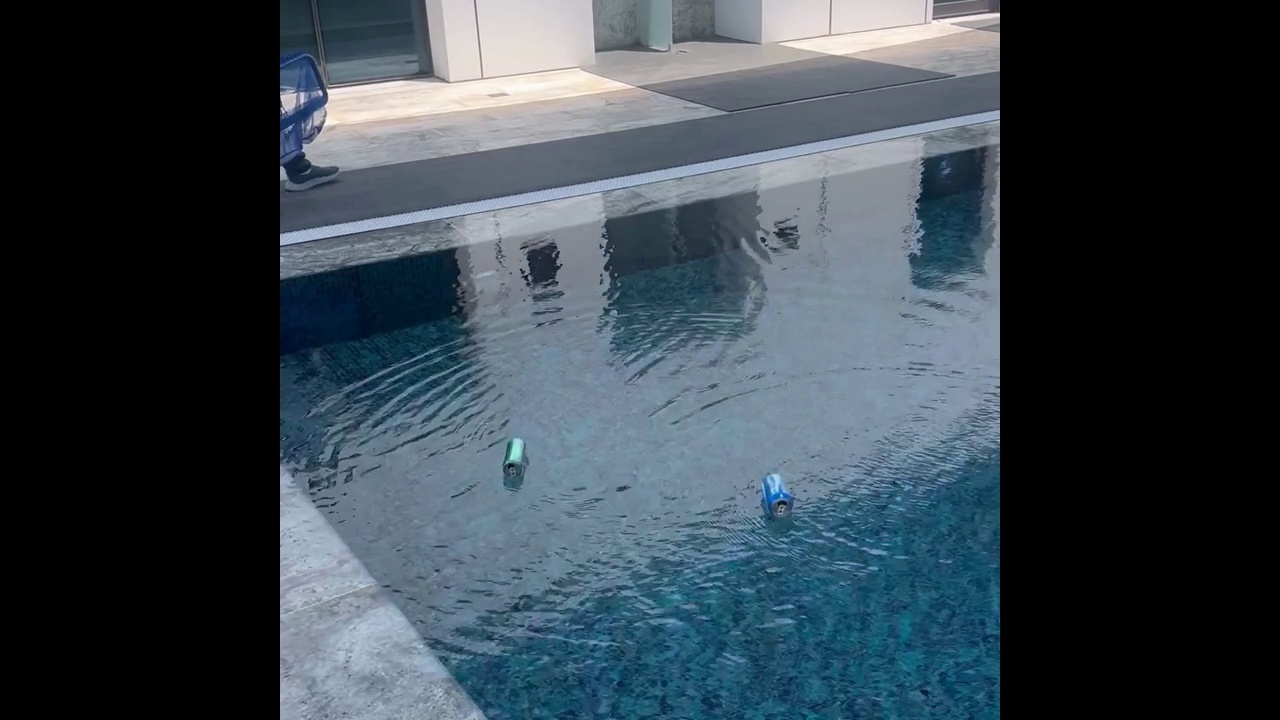debris: (496, 434, 533, 484), (759, 473, 798, 519)
